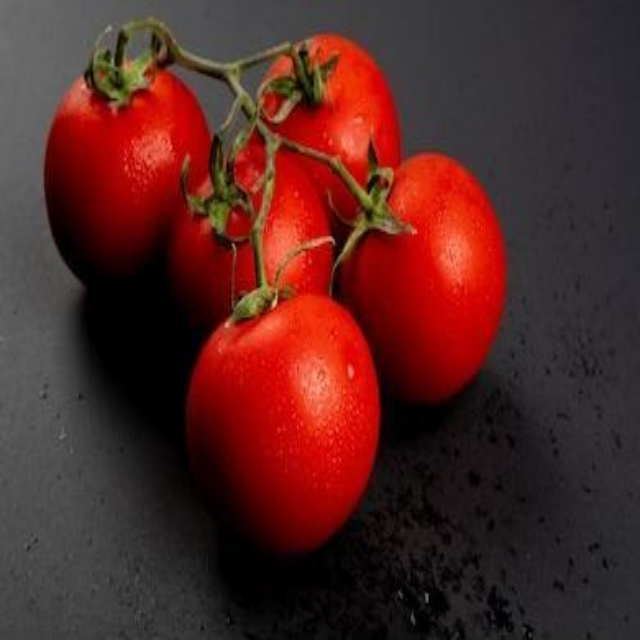tomato: (192, 300, 385, 541), (50, 59, 206, 285), (354, 161, 499, 399), (237, 41, 409, 213), (174, 144, 328, 319)
